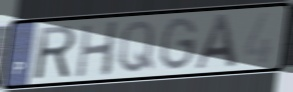4: (242, 10, 275, 67)
A: (192, 12, 240, 73)
G: (159, 16, 200, 74)
H: (74, 18, 121, 79)
Q: (116, 19, 156, 75)
R: (34, 24, 78, 83)
